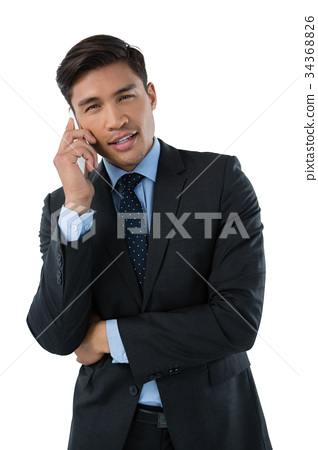phone: (59, 107, 101, 188)
talk: (45, 78, 157, 204)
